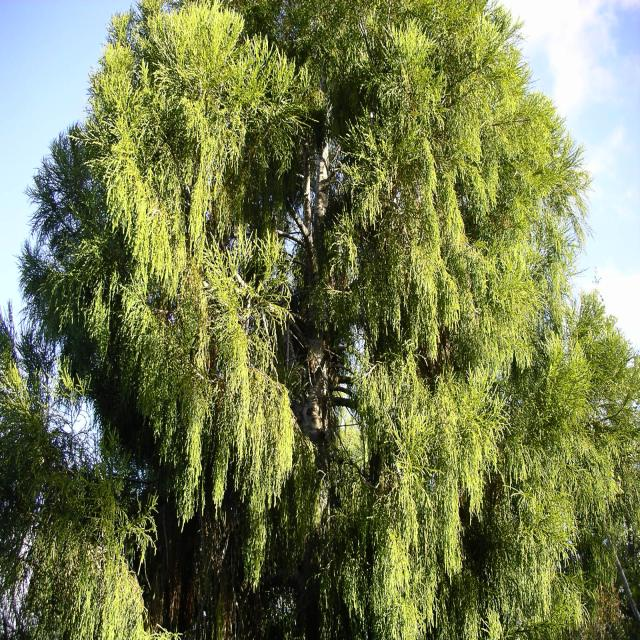Rimu: (0, 3, 640, 639)
